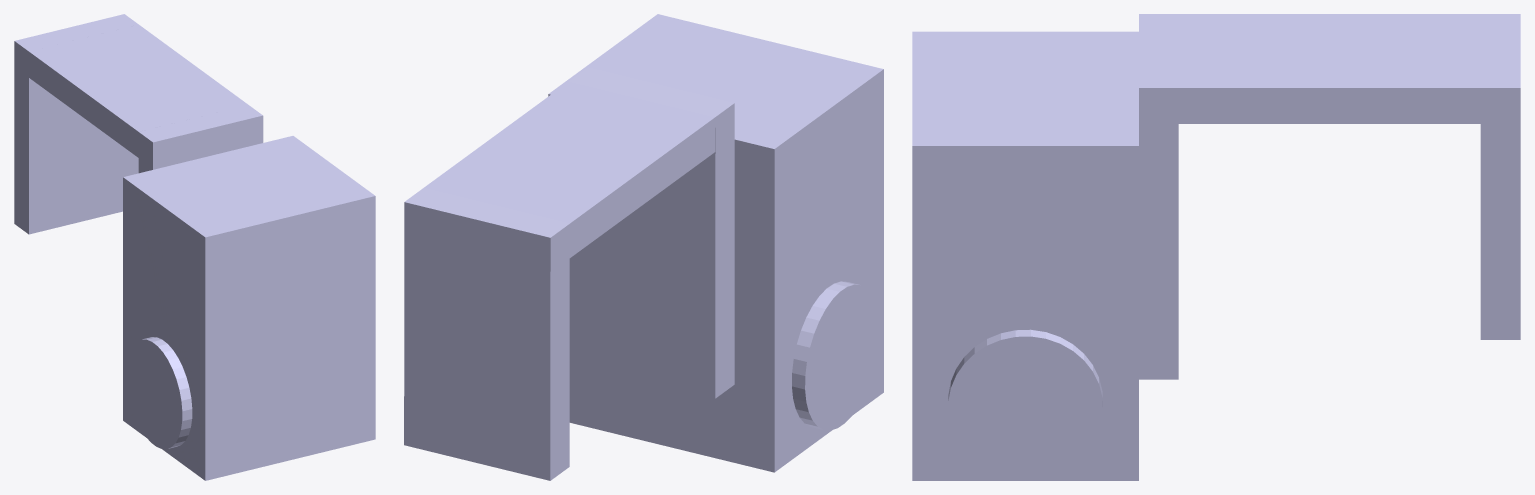
Rendered from dbAlpha_URDF_Leg_Thorax_Right_Link1__107__.dae.
3 views of the same model, side by side, from view 1: azimuth 30°, elevation 25°; view 2: azimuth 150°, elevation 25°; view 3: azimuth 270°, elevation 25° (orthographic). The views are drawn at different scales.
Visible parts, largest first — view 1: Node_0x7f7afced7d00 (×5); view 2: Node_0x7f7afced7d00 (×5); view 3: Node_0x7f7afced7d00 (×5).
Part boxes in pixels (x1,y1,x2,y2): Node_0x7f7afced7d00 (×5): (14, 14, 375, 480); Node_0x7f7afced7d00 (×5): (404, 14, 883, 480); Node_0x7f7afced7d00 (×5): (912, 14, 1520, 480).
Bounding box in the file's own units: 0.038 × 0.0518 × 0.0765.
